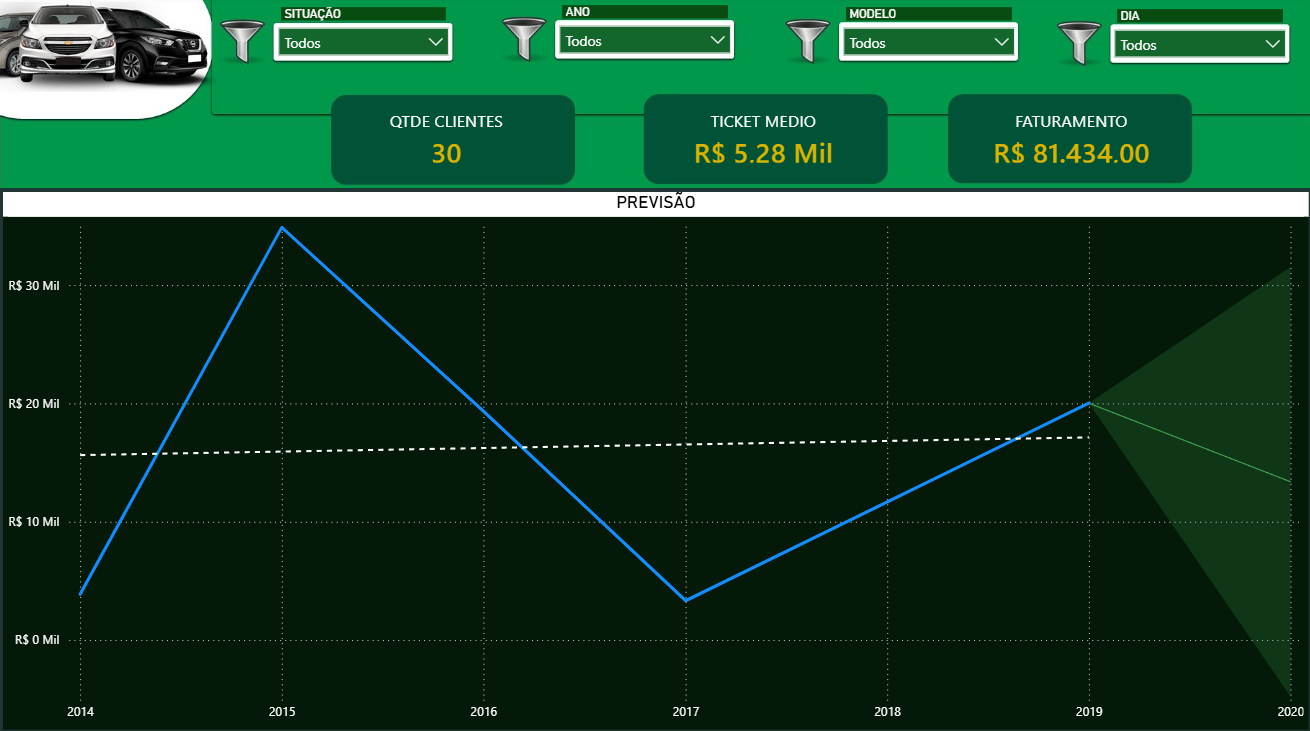

This screenshot's page, from the dashboard's own definition file:
{"tool":"powerbi","page":{"name":"PREVISÃO","canvas":[1280,720],"ordinal":3},"visuals":[{"type":"slicer","fields":{"Values":["tb_km.SITUAÇÃO CADASTRAL"]},"box":[262.6,4.9,185.8,65.2],"z":0},{"type":"slicer","fields":{"Values":["tb_km.ANO.Variation.Hierarquia de datas.Ano"]},"box":[535.9,2.9,186.7,65.2],"z":1000},{"type":"slicer","fields":{"Values":["tb_km.MODELO"]},"box":[812.2,4.9,186.7,65.2],"z":2000},{"type":"slicer","fields":{"Values":["tb_km.Nome do Dia"]},"box":[1075.7,6.8,186.7,65.2],"z":3000},{"type":"cardVisual","fields":{"Data":["Count(tb_km.ID_CLIENTE)"]},"box":[331.7,98.2,209.1,80.7],"z":4000},{"type":"cardVisual","fields":{"Data":["MEDIDAS.MEDIA SLR"]},"box":[640,98.2,209.1,80.7],"z":5000},{"type":"cardVisual","fields":{"Data":["Avg(tb_km.Total Venda)"]},"box":[938.6,98.2,211.1,80.7],"z":6000},{"type":"lineChart","title":"PREVISÃO","fields":{"Category":["tb_km.DATA.Variation.Hierarquia de datas.Ano","tb_km.DATA.Variation.Hierarquia de datas.Trimestre","tb_km.DATA.Variation.Hierarquia de datas.Mês","tb_km.DATA.Variation.Hierarquia de datas.Dia"],"Y":["MEDIDAS.FAT"]},"box":[4.9,189.7,1270.3,523.3],"z":7000}]}

Visuals, with their boxes in screenshot pixels (x1, y1, x2, y2), scaled from the page's 1280x720 canvas onto the 1310x731 screenshot:
slicer - tb_km.SITUAÇÃO CADASTRAL: crop(269, 5, 459, 71)
slicer - tb_km.ANO.Variation.Hierarquia de datas.Ano: crop(548, 3, 740, 69)
slicer - tb_km.MODELO: crop(831, 5, 1022, 71)
slicer - tb_km.Nome do Dia: crop(1101, 7, 1292, 73)
cardVisual - Count(tb_km.ID_CLIENTE): crop(339, 100, 553, 182)
cardVisual - MEDIDAS.MEDIA SLR: crop(655, 100, 869, 182)
cardVisual - Avg(tb_km.Total Venda): crop(961, 100, 1177, 182)
"PREVISÃO" lineChart: crop(5, 193, 1305, 724)
